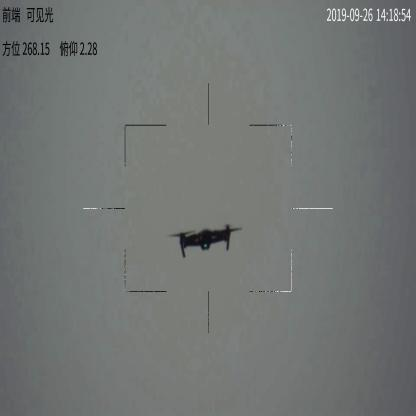uav: (167, 220, 240, 259)
